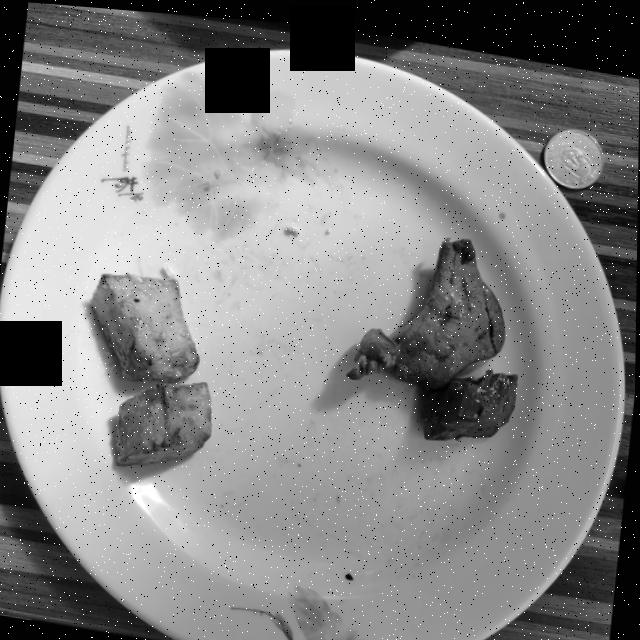coin: (542, 118, 602, 179)
fried potato: (90, 271, 212, 464)
pig liver: (347, 230, 518, 433)
